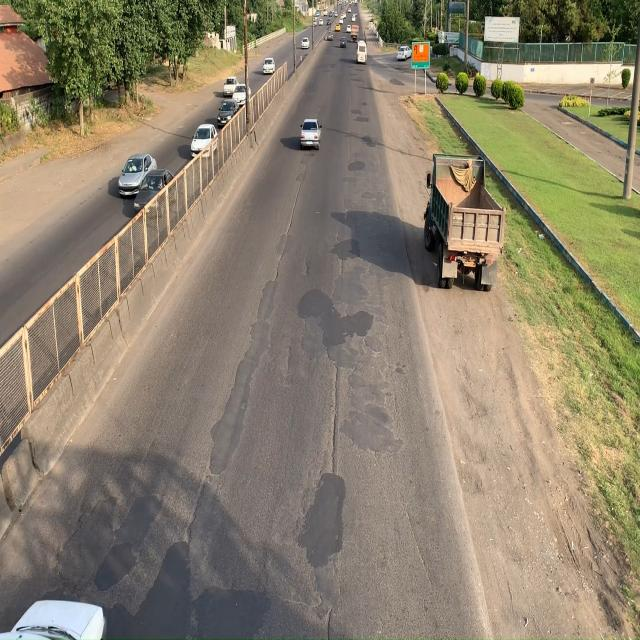Truck: (424, 156, 508, 298)
cars: (117, 151, 159, 199), (138, 171, 177, 218), (191, 120, 219, 164), (298, 117, 321, 155)
